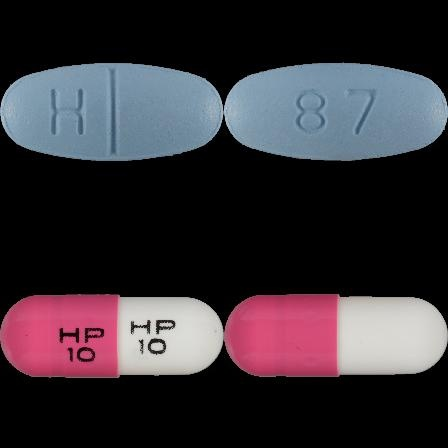61786-350: (0, 0, 224, 224)
